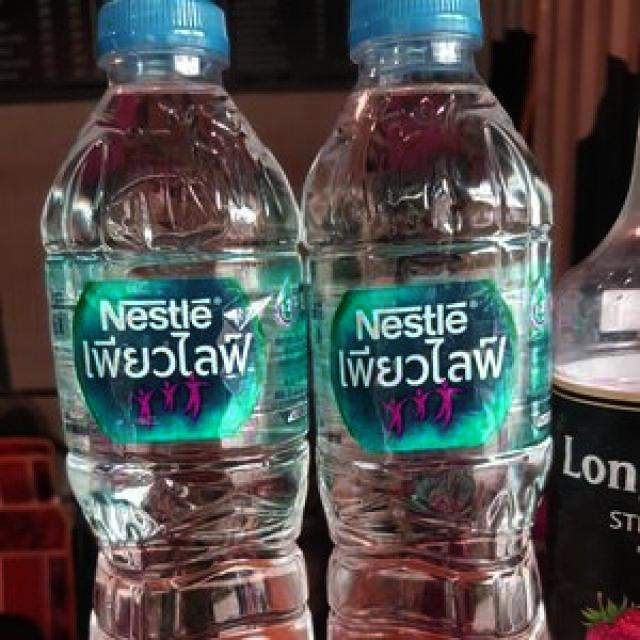bottle: (39, 0, 310, 640), (300, 0, 553, 640), (553, 92, 640, 640)
